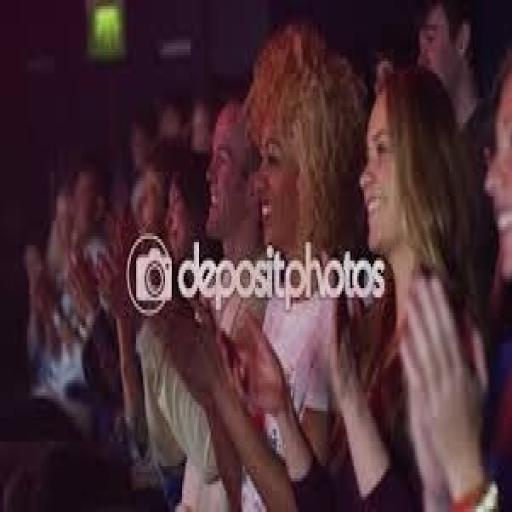clapping: (20, 6, 508, 509)
